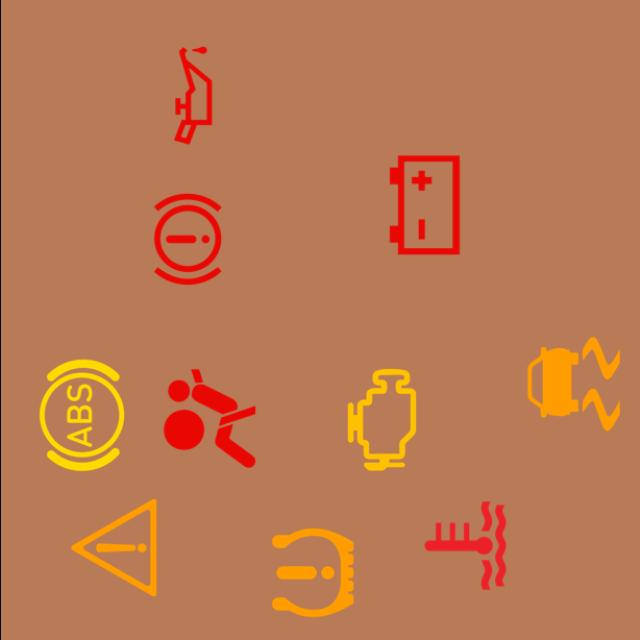Anti Lock Braking System: (20, 354, 142, 476)
Braking System Issue: (126, 178, 248, 300)
Charging System Issue: (362, 144, 484, 266)
Check Engine: (320, 358, 442, 481)
Electronic Stability Problem -ESP-: (512, 323, 634, 445)
Engine Overheating Warning Light: (404, 484, 526, 606)
Low Engine Oil Warning Light: (132, 35, 254, 156)
Low Tire Pressure Warning Light: (251, 512, 373, 634)
Master warning light: (52, 487, 174, 609)
SRS-Airbag: (148, 358, 270, 480)
